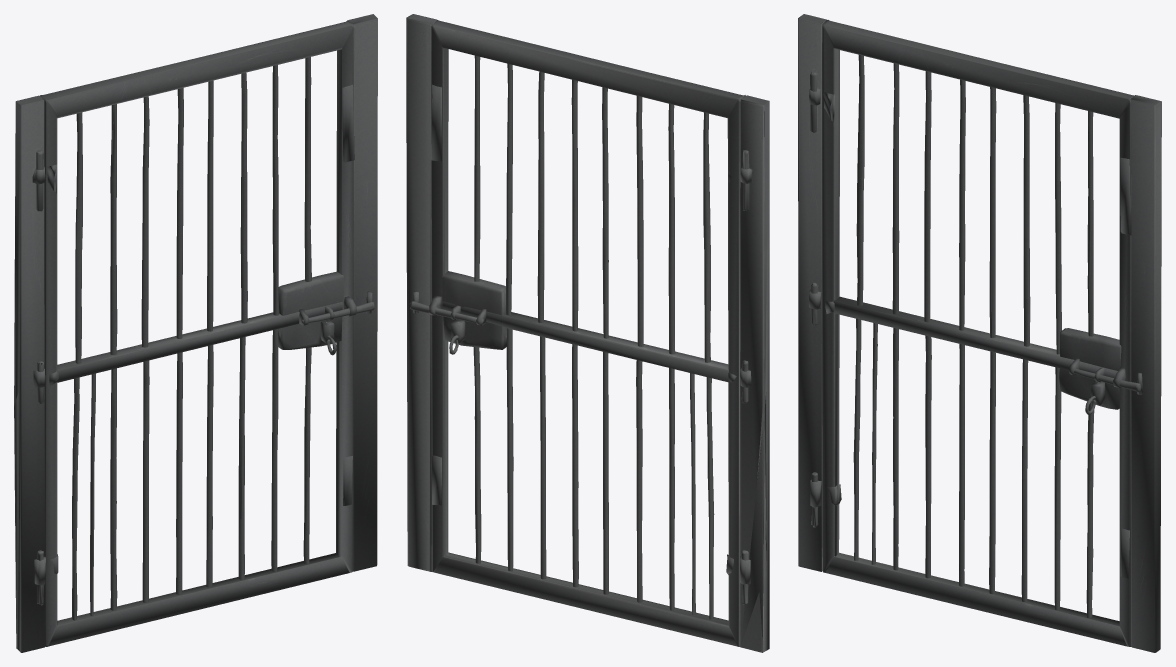
File: Meshy_AI_security_door_0903110317_texture.glb
3 renders of one model, left to right at view 1: azimuth 30°, elevation 25°; view 2: azimuth 150°, elevation 25°; view 3: azimuth 330°, elevation 25°, orthographic.
Visible parts, largest first — view 1: mesh_node; view 2: mesh_node; view 3: mesh_node.
Boxes of the visible parts, box(x1,y1,x2,y2) form: mesh_node: box(14, 14, 377, 652); mesh_node: box(406, 14, 769, 652); mesh_node: box(798, 14, 1161, 652).
Bounding box in the file's own units: 0.6855 × 1 × 0.1055.
1 material, 1 textured.
